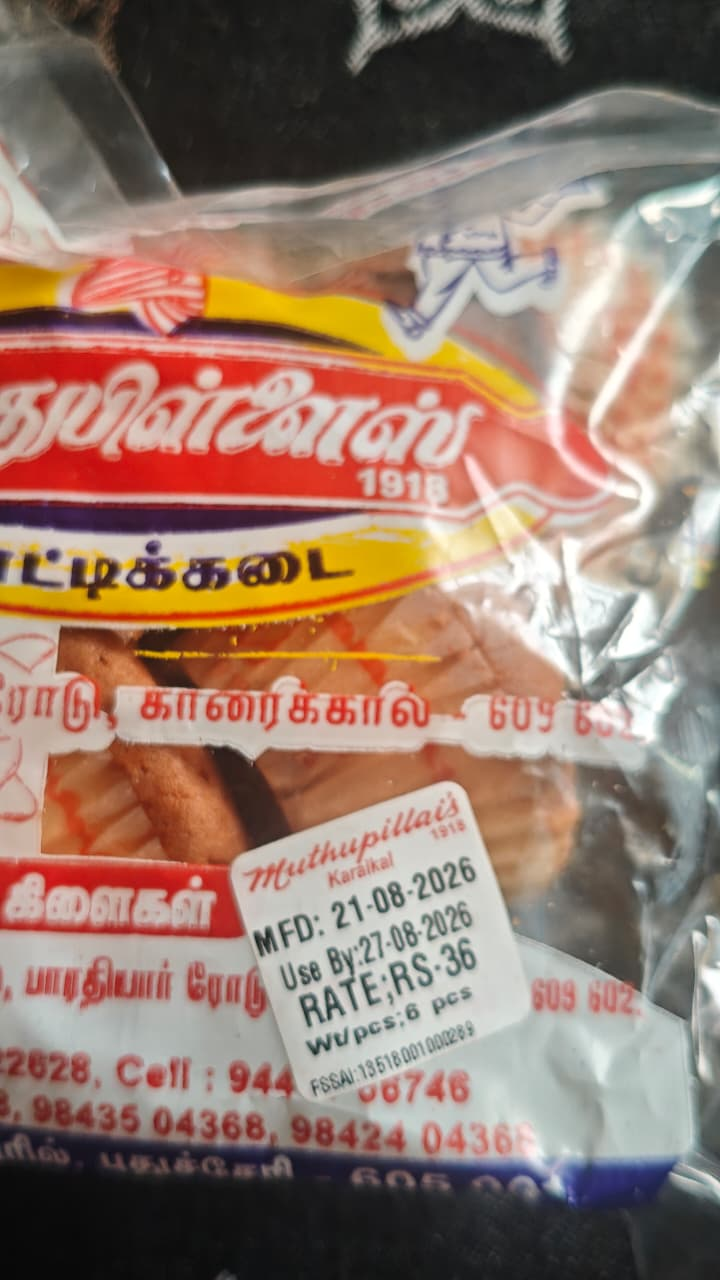Brand: (0, 352, 486, 474)
